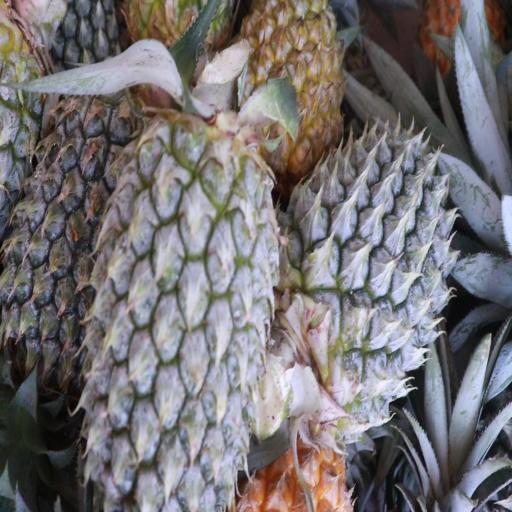Pineapple - v8 v1: (243, 0, 341, 165)
